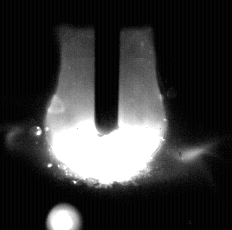arame: (95, 0, 120, 137)
poca: (45, 0, 167, 230)
